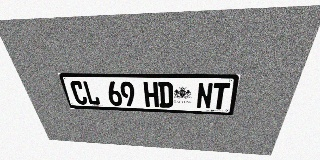6: (105, 81, 123, 106)
9: (119, 81, 136, 106)
C: (69, 81, 88, 105)
D: (158, 82, 173, 108)
H: (143, 82, 159, 107)
L: (82, 81, 101, 105)
N: (196, 82, 214, 109)
T: (211, 83, 230, 110)
